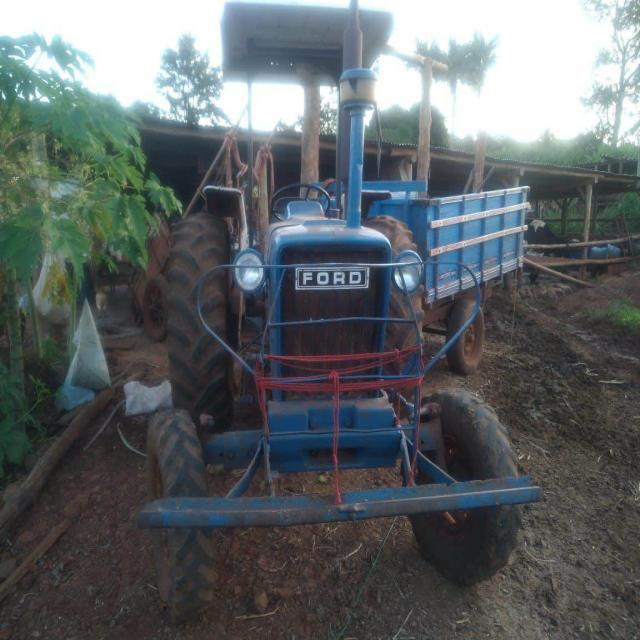Tratores - v5 YOLO V8L 2024-11-13: (162, 10, 509, 599)
